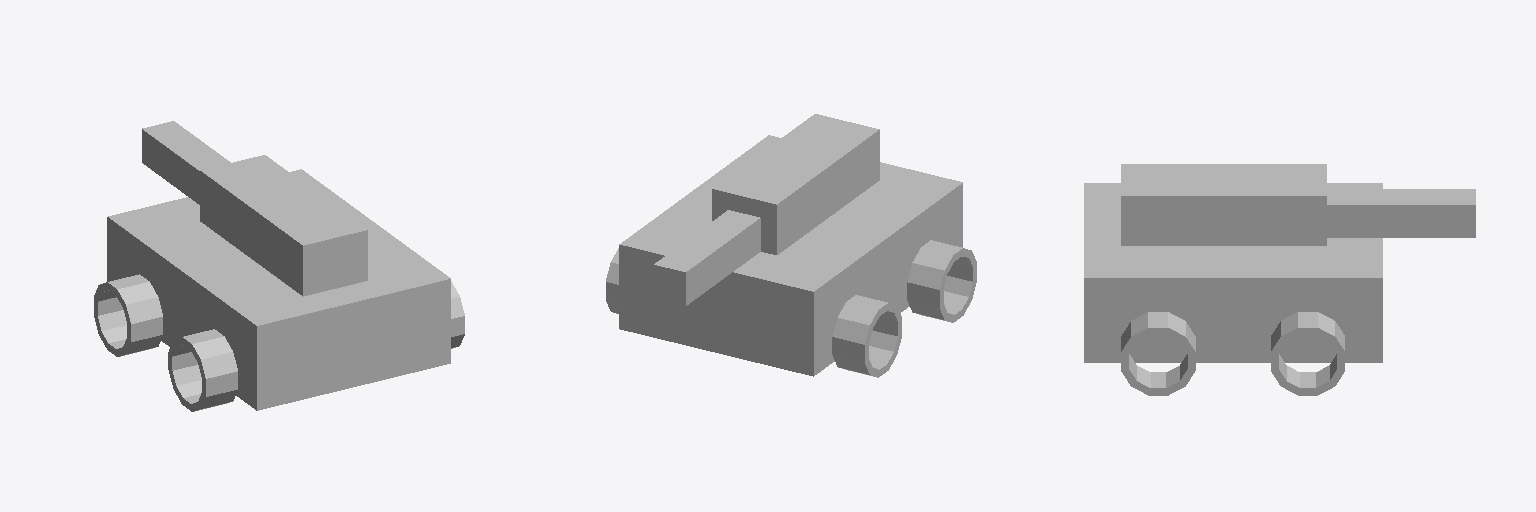
File: tank.obj
3 views of the same model, side by side, from view 1: azimuth 30°, elevation 25°; view 2: azimuth 150°, elevation 25°; view 3: azimuth 270°, elevation 25° (orthographic).
Parts seen in each view (by area): view 1: cube, tube; view 2: cube, tube; view 3: cube, tube.
Part boxes in pixels (x1,y1,x2,y2): cube: (107,121,450,410); tube: (94,274,464,411); cube: (619,114,962,376); tube: (606,240,976,377); cube: (1084,164,1475,362); tube: (1121,312,1344,395).
Bounding box in the file's own units: 1 × 0.5625 × 1.31.